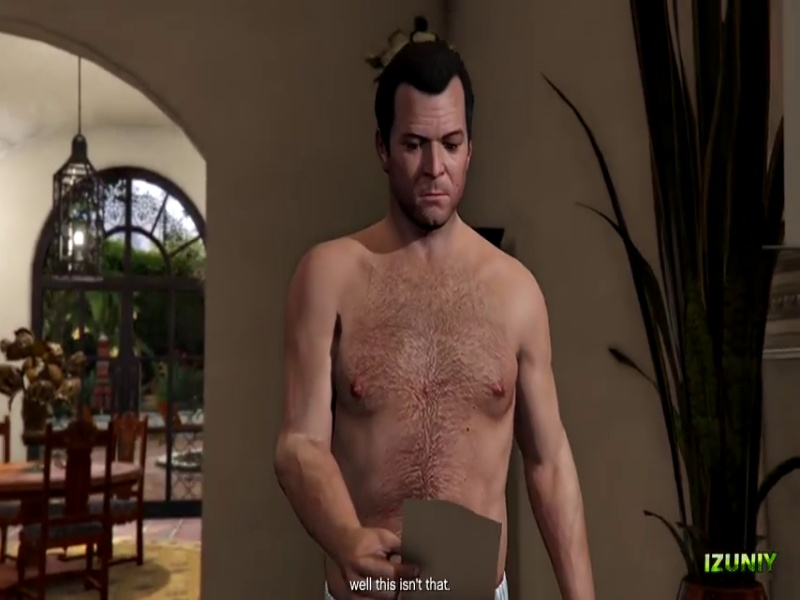human: (273, 24, 610, 594)
